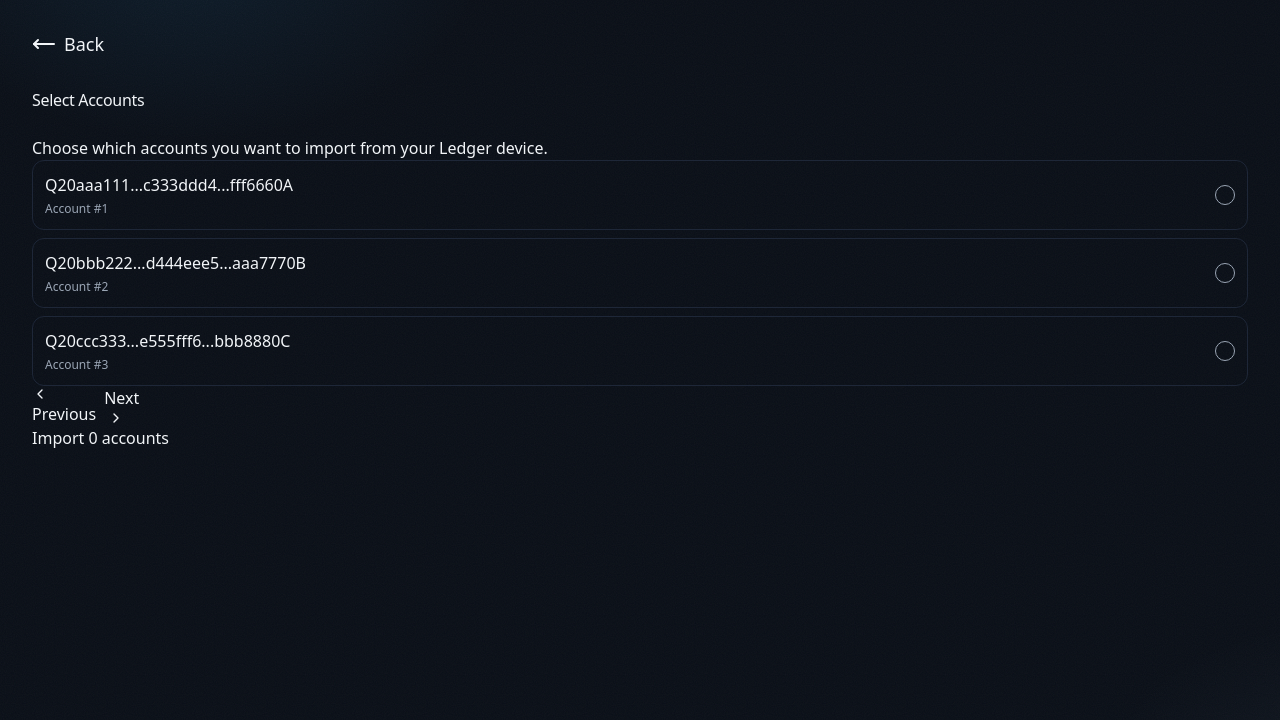
Test: ImportLedger › Step 2: Select Accounts › should show generic error when import fails with non-Error
This screenshot has width=1280, height=720.
Click the text "Account #1": (77, 208) [45,200,108,217]
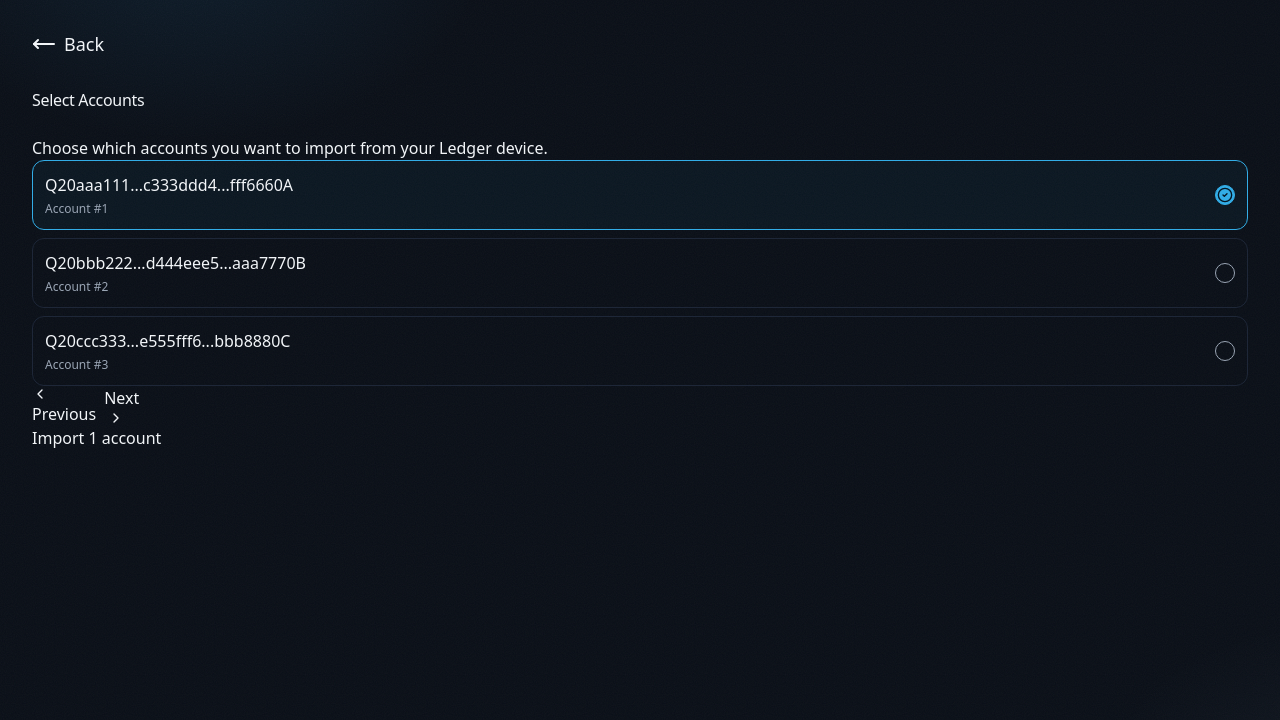
Click the button "Import 1 account": (97, 438) [32,426,161,450]
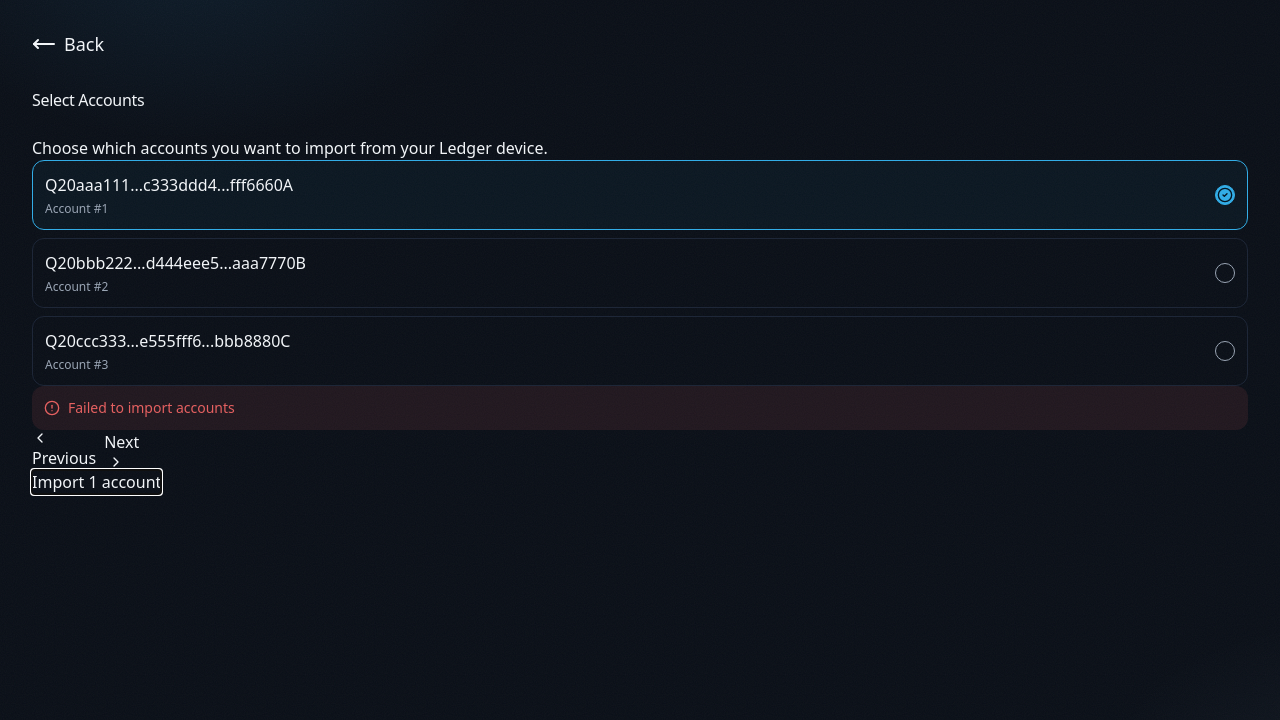
Expected: the text "Failed to import accounts" is shown, [68,398,235,418]
